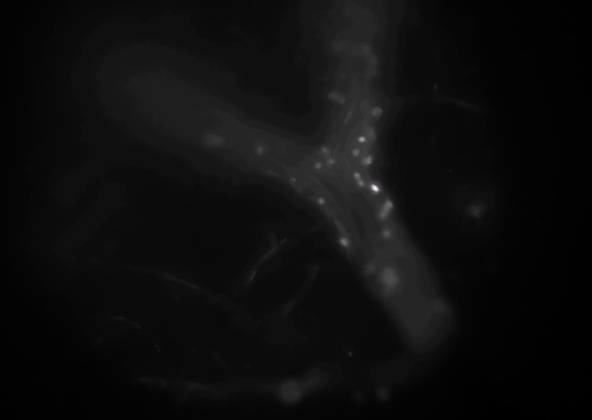cell: (368, 182, 382, 196), (354, 132, 368, 146), (371, 104, 385, 118), (348, 145, 362, 159), (362, 154, 376, 168), (316, 141, 330, 155), (311, 159, 325, 173), (324, 154, 338, 168), (328, 89, 342, 103), (349, 169, 363, 183), (333, 94, 347, 108), (353, 177, 367, 191), (337, 236, 351, 250), (382, 272, 396, 286), (380, 227, 394, 241), (381, 197, 395, 211), (378, 203, 392, 217), (377, 201, 391, 215), (312, 195, 326, 209), (364, 263, 378, 277), (287, 173, 301, 187), (253, 142, 267, 156), (207, 134, 221, 148), (435, 300, 449, 314), (358, 43, 372, 57), (365, 53, 379, 67), (334, 40, 348, 54), (366, 129, 380, 143)
